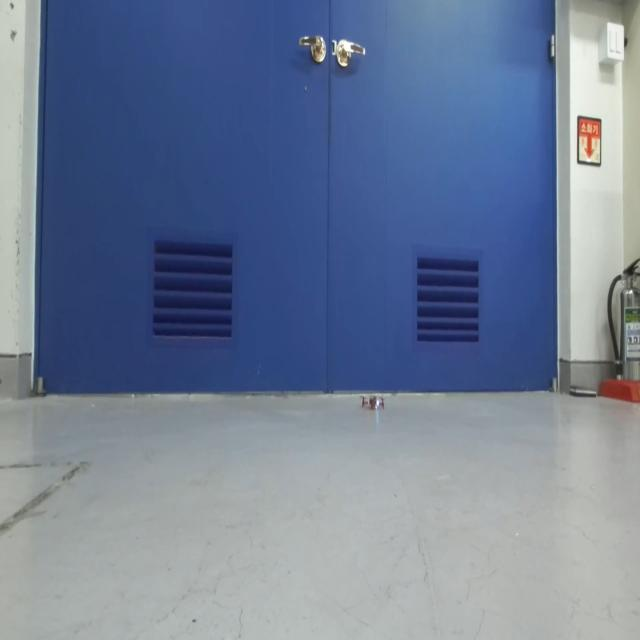crazyflie: (360, 391, 386, 415)
